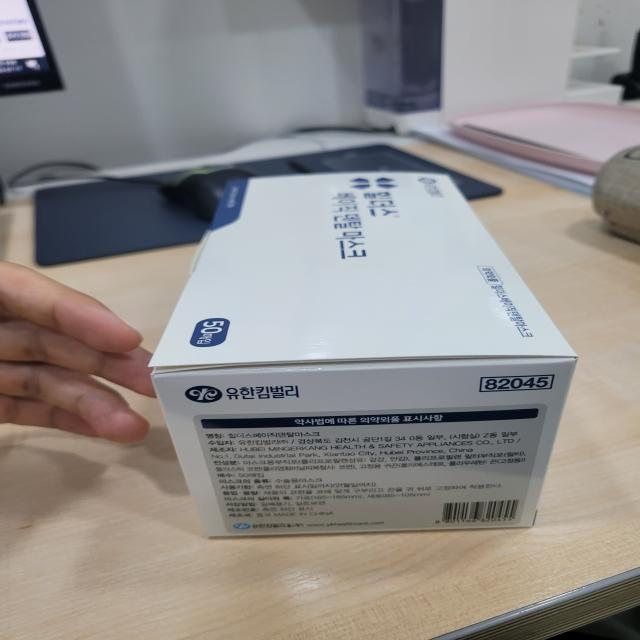mask: (125, 157, 601, 585)
